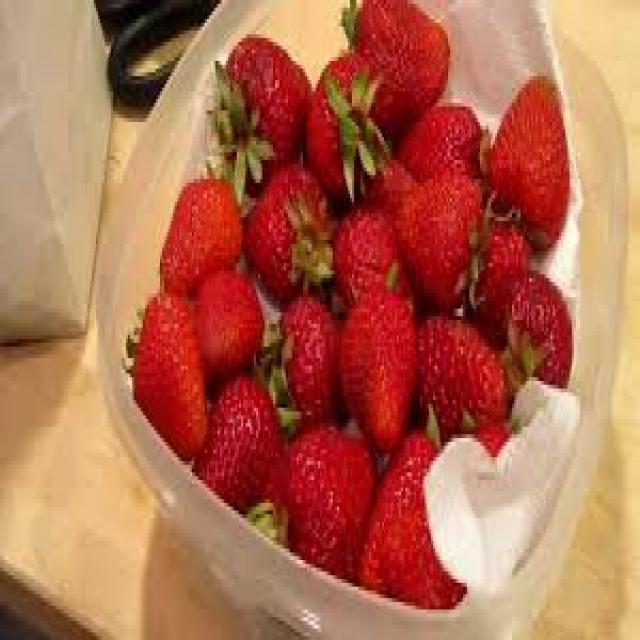strawberries: (124, 4, 578, 592)
